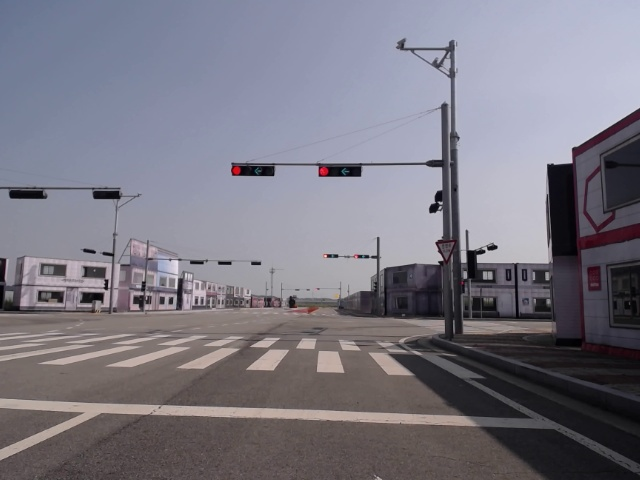left_green_4: (231, 166, 275, 177), (320, 166, 361, 176), (354, 254, 369, 259), (324, 254, 338, 257)
